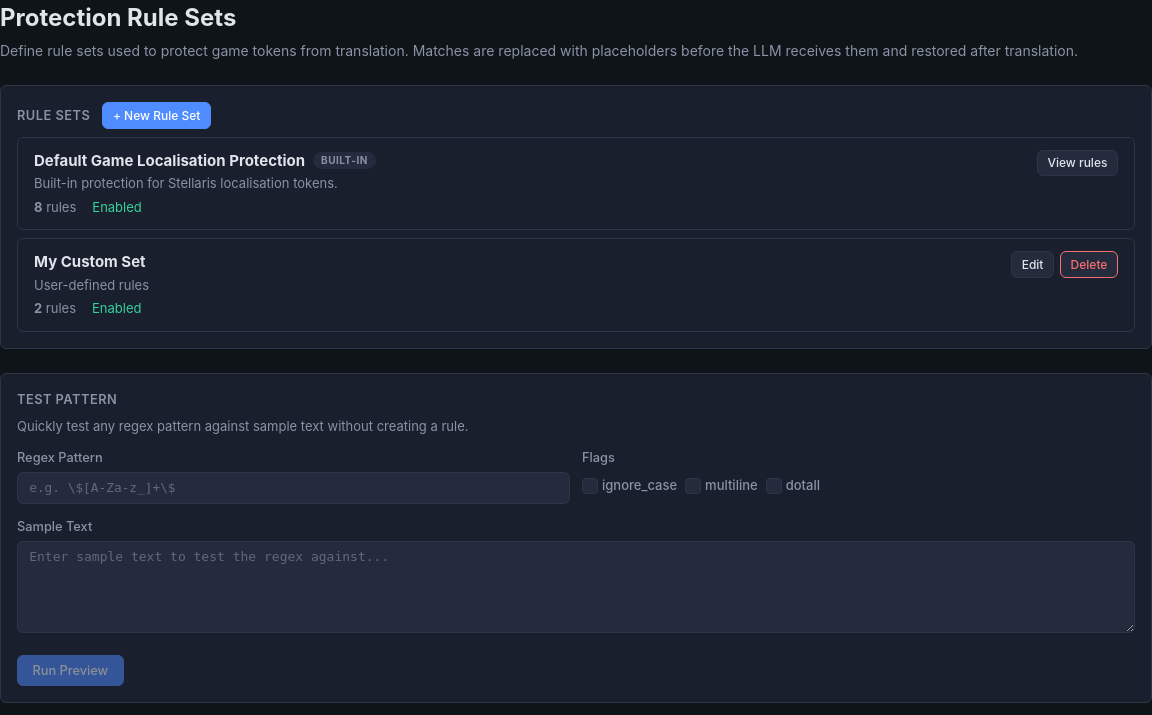
Scenario: ProtectionRules — rule-set-centric UI › New Rule button appears when custom set is selected
The image size is (1152, 715).
// Click on the custom set to select it
Click the text "My Custom Set" at (90, 262), box [34, 251, 146, 274]
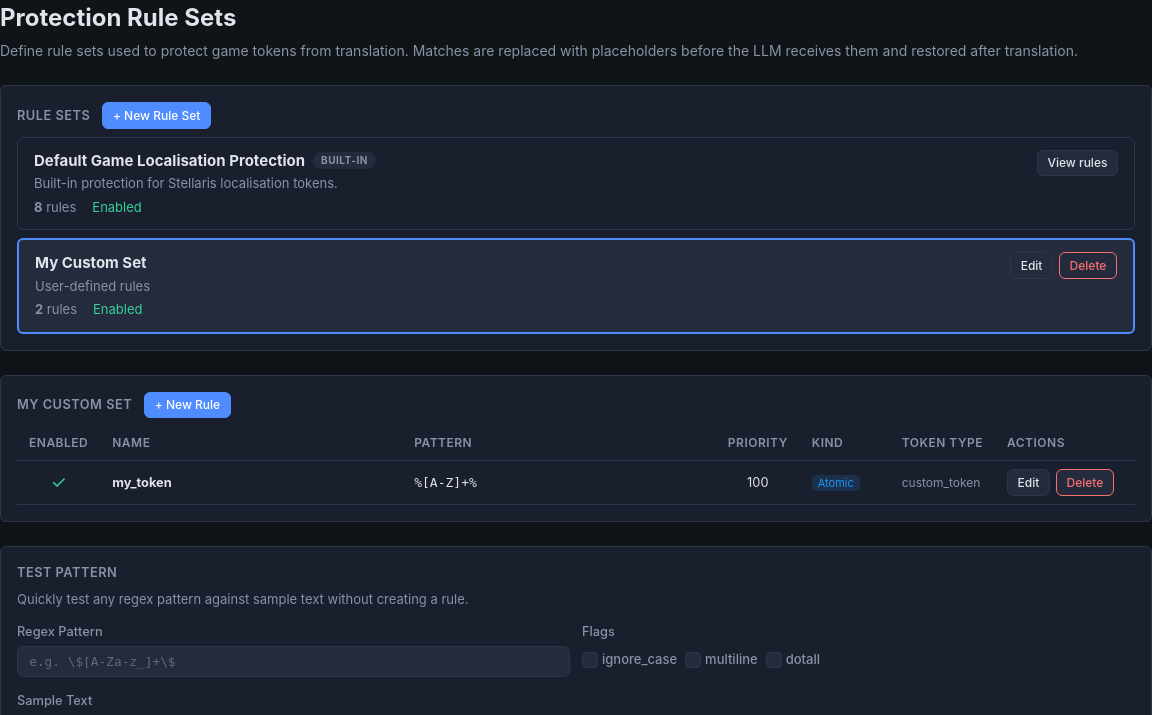
expect the button "+ New Rule" is shown: met, box [144, 392, 231, 418]
